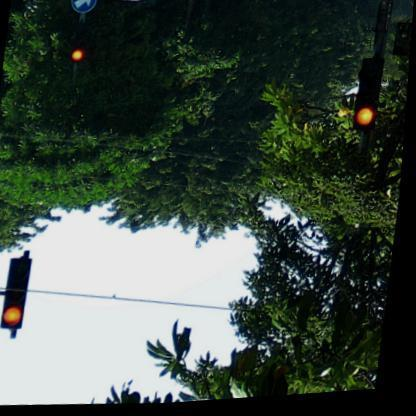red: (2, 256, 35, 329), (355, 62, 384, 136)
